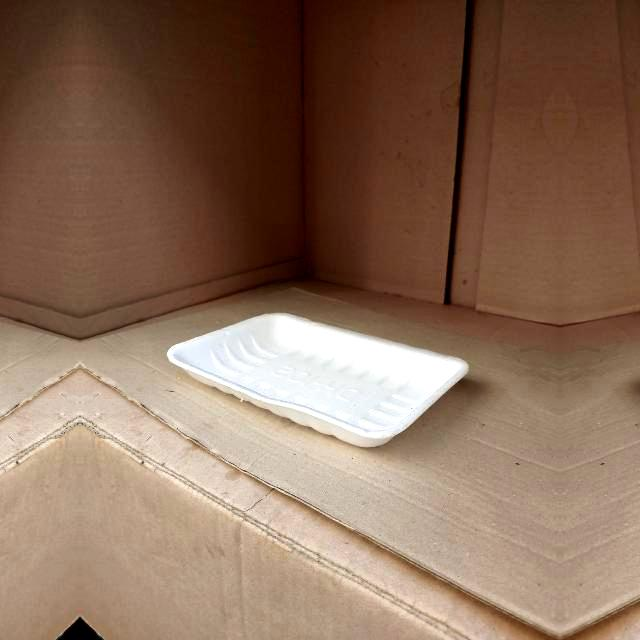Styrofoam: (166, 310, 470, 450), (167, 313, 469, 448)
